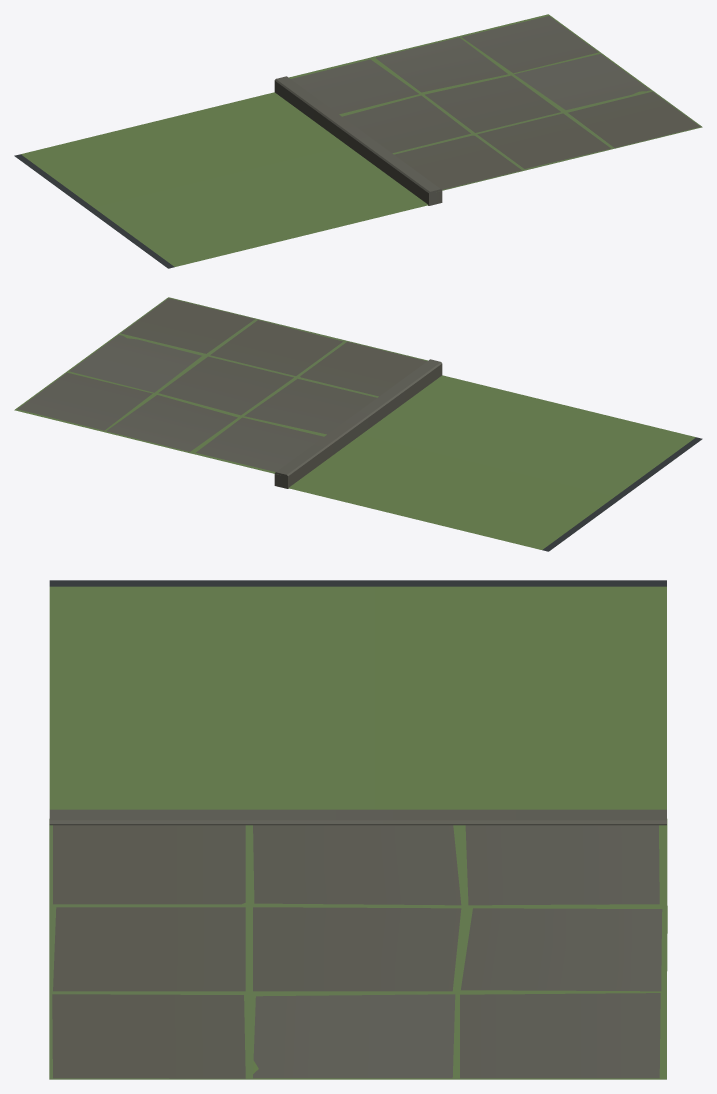
File: Road_06.fbx
The picture shows the model from 3 angles, top to bottom: view 1: azimuth 30°, elevation 25°; view 2: azimuth 150°, elevation 25°; view 3: azimuth 270°, elevation 25°; orthographic projection. The views are drawn at different scales.
Visible parts, largest first — view 1: Road_06; view 2: Road_06; view 3: Road_06.
Part boxes in pixels (x1=…): Road_06: x1=14, y1=14, x2=702, y2=268; Road_06: x1=14, y1=297, x2=702, y2=551; Road_06: x1=49, y1=580, x2=667, y2=1079.
Bounding box in the file's own units: 6 × 0.15 × 3.01.
